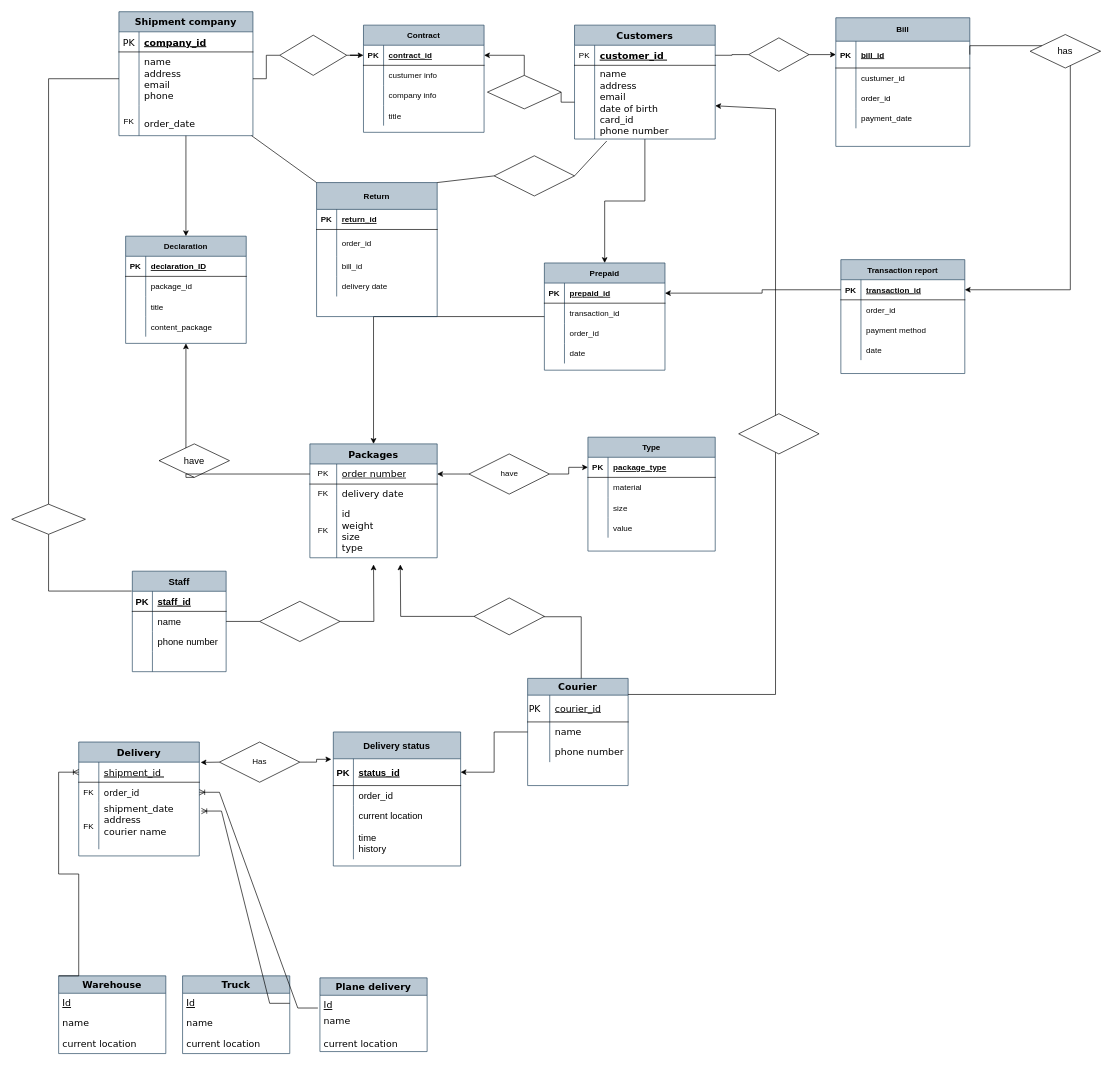
The diagram is 1118 pixels wide and 1067 high, and some of its shapes have lost their labels. The centre of each missing label's shape, as x and y in pixels:
delivers: the point at 508,616
makes: the point at 313,55
pays: the point at 778,54
receives: the point at 778,433
returns: the point at 534,175
Sends: the point at 299,621
sends order: the point at 48,519
signs: the point at 524,92
